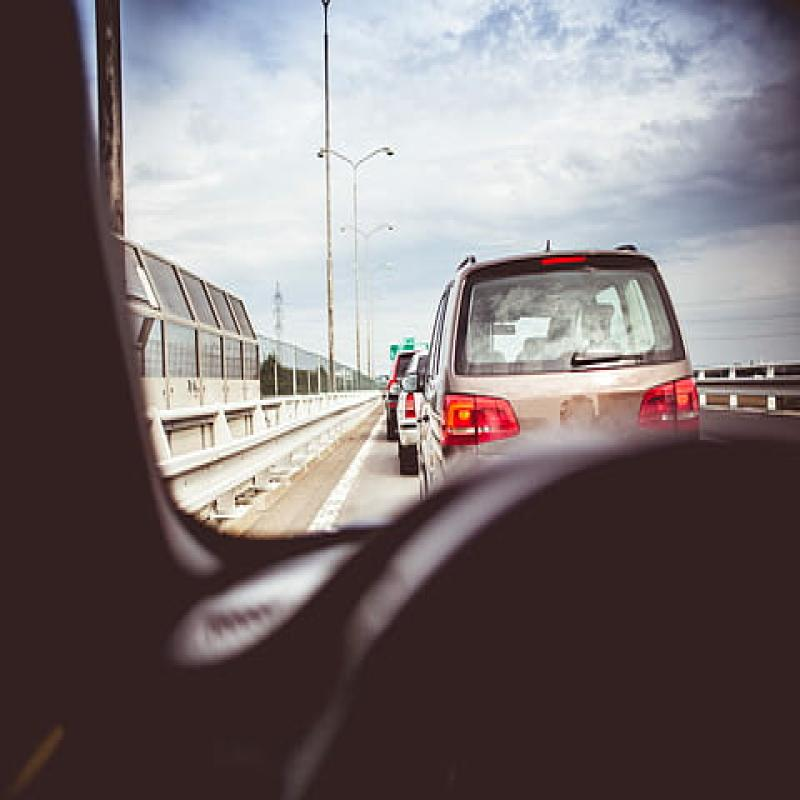car: (373, 263, 689, 520)
